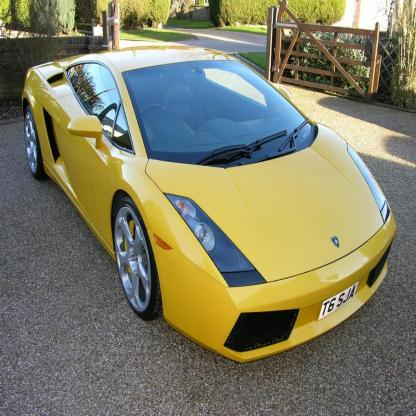Car: (22, 45, 398, 367)
